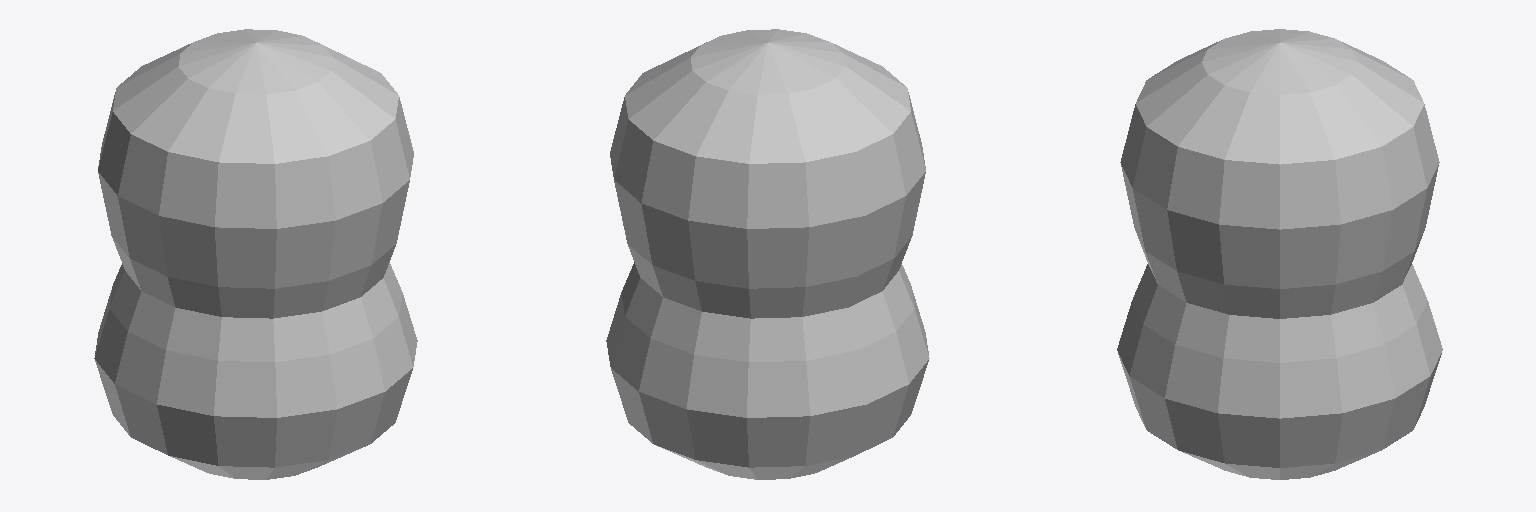
The model's file is 2_head.obj.
3 views of the same model, side by side, from view 1: azimuth 30°, elevation 25°; view 2: azimuth 150°, elevation 25°; view 3: azimuth 270°, elevation 25° (orthographic).
Parts seen in each view (by area): view 1: Sphere; view 2: Sphere; view 3: Sphere.
Part boxes in pixels (left/top/right/bottom): Sphere: left=94, top=29, right=417, bottom=479; Sphere: left=606, top=29, right=929, bottom=479; Sphere: left=1117, top=29, right=1442, bottom=479.
Size of the model in its own units: 0.2977 by 0.4301 by 0.2977.